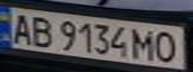1: (75, 19, 93, 54)
3: (90, 21, 112, 56)
4: (109, 24, 130, 57)
9: (54, 17, 78, 52)
A: (6, 10, 36, 45)
B: (27, 12, 57, 48)
M: (130, 26, 157, 61)
O: (151, 28, 181, 63)
